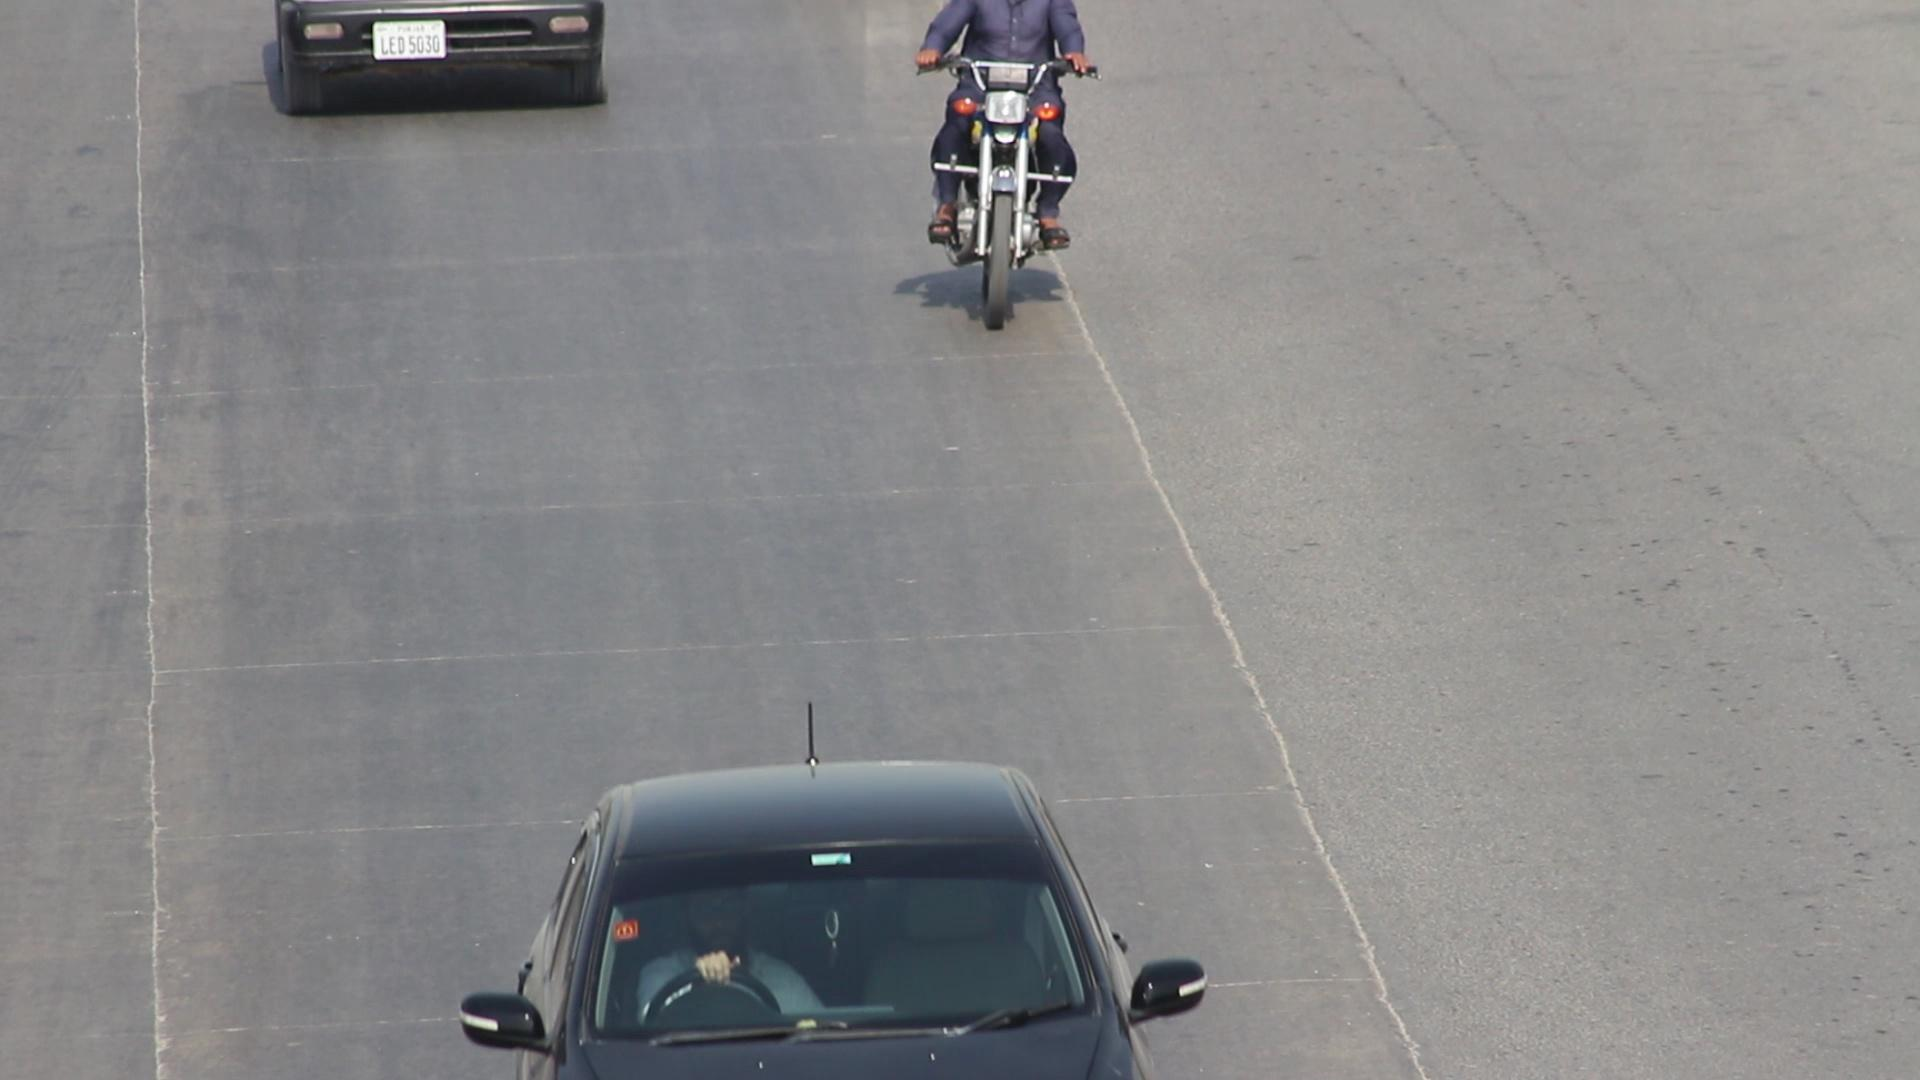windshield: (567, 820, 1104, 1050)
